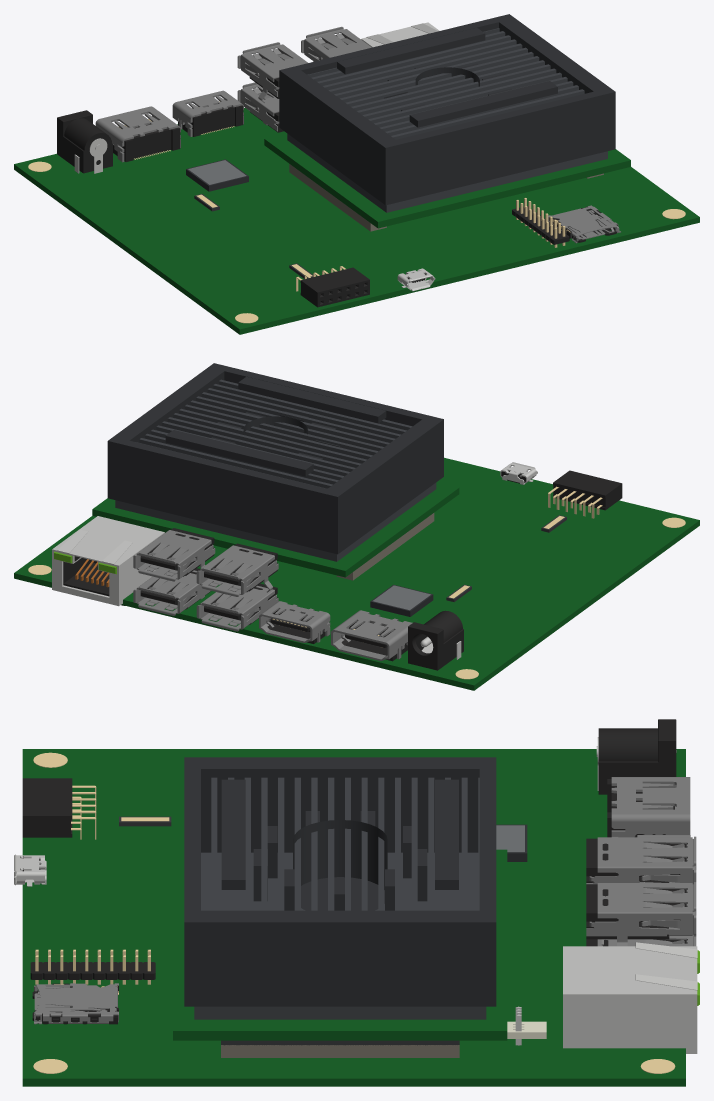
3 views of the same model, one above another, from view 1: azimuth 30°, elevation 25°; view 2: azimuth 150°, elevation 25°; view 3: azimuth 270°, elevation 25° (orthographic). The views are drawn at different scales.
Visible parts, largest first — view 1: KV260_CARRIER, KV260_FAN, KV260_HEATSINK, K26_SOM, KV260_U46_USB3, KV260_J6_DP, KV260_J12_DC12V, KV260_J5_HDMI, KV260_J2_PMOD, KV260_J11_SD, KV260_U44_USB3, KV260_U27_AP1302 (+5 smaller); view 2: KV260_CARRIER, KV260_FAN, KV260_HEATSINK, KV260_J10_RJ45, K26_SOM, KV260_U46_USB3, KV260_U44_USB3, KV260_J6_DP, KV260_J12_DC12V, KV260_J2_PMOD, KV260_J5_HDMI, KV260_U27_AP1302 (+3 smaller); view 3: KV260_CARRIER, KV260_FAN, KV260_HEATSINK, KV260_J10_RJ45, K26_SOM, KV260_U44_USB3, KV260_U46_USB3, KV260_J6_DP, KV260_J12_DC12V, KV260_J2_PMOD, KV260_J11_SD, SOM240_2_CARRIER (+7 smaller).
Part boxes in pixels (<box>): KV260_CARRIER: <box>14,108,699,334</box>; KV260_FAN: <box>279,14,615,205</box>; KV260_HEATSINK: <box>287,28,607,212</box>; K26_SOM: <box>264,133,630,228</box>; KV260_U46_USB3: <box>237,42,307,132</box>; KV260_J6_DP: <box>95,106,180,162</box>; KV260_J12_DC12V: <box>57,110,112,173</box>; KV260_J5_HDMI: <box>172,90,243,136</box>; KV260_J2_PMOD: <box>296,266,369,307</box>; KV260_J11_SD: <box>548,205,620,243</box>; KV260_U44_USB3: <box>301,26,371,61</box>; KV260_U27_AP1302: <box>186,159,248,191</box>; KV260_CARRIER: <box>14,457,699,690</box>; KV260_FAN: <box>107,363,443,554</box>; KV260_HEATSINK: <box>115,379,436,561</box>; KV260_J10_RJ45: <box>52,516,164,606</box>; K26_SOM: <box>92,482,459,577</box>; KV260_U46_USB3: <box>196,543,278,631</box>; KV260_U44_USB3: <box>133,528,215,615</box>; KV260_J6_DP: <box>331,610,412,661</box>; KV260_J12_DC12V: <box>408,610,463,670</box>; KV260_J2_PMOD: <box>548,470,622,518</box>; KV260_J5_HDMI: <box>259,601,330,643</box>; KV260_U27_AP1302: <box>370,584,433,616</box>; KV260_CARRIER: <box>22,749,685,1086</box>; KV260_FAN: <box>184,757,496,1006</box>; KV260_HEATSINK: <box>194,777,486,1019</box>; KV260_J10_RJ45: <box>563,942,699,1053</box>; K26_SOM: <box>173,849,507,1040</box>; KV260_U44_USB3: <box>586,882,696,946</box>; KV260_U46_USB3: <box>586,836,696,934</box>; KV260_J6_DP: <box>607,777,690,837</box>; KV260_J12_DC12V: <box>596,719,676,794</box>; KV260_J2_PMOD: <box>22,778,96,839</box>; KV260_J11_SD: <box>32,983,118,1024</box>; SOM240_2_CARRIER: <box>221,1045,459,1057</box>.
Size of the model in its own units: 0.14 by 0.0326 by 0.1231.
